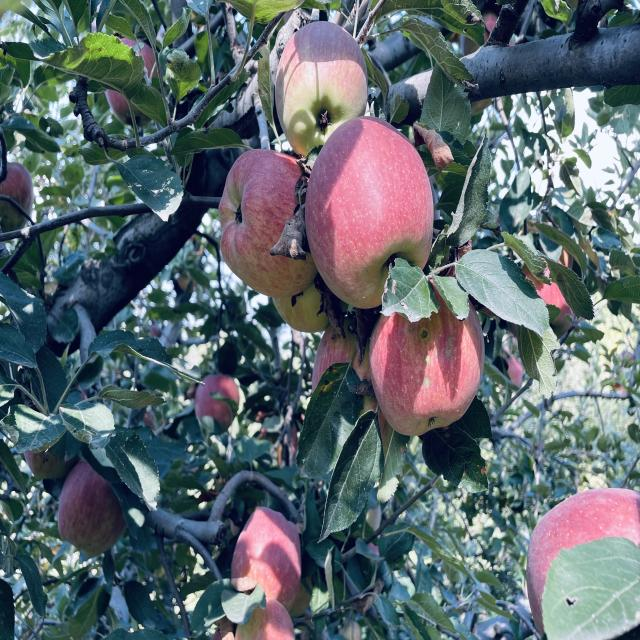Apple: (305, 117, 434, 308), (526, 488, 640, 633), (369, 295, 485, 435), (219, 148, 316, 298), (275, 22, 368, 155), (231, 507, 301, 608), (59, 460, 126, 558), (272, 282, 329, 333), (235, 598, 295, 640), (195, 373, 239, 430), (0, 162, 34, 215), (0, 202, 26, 232)
